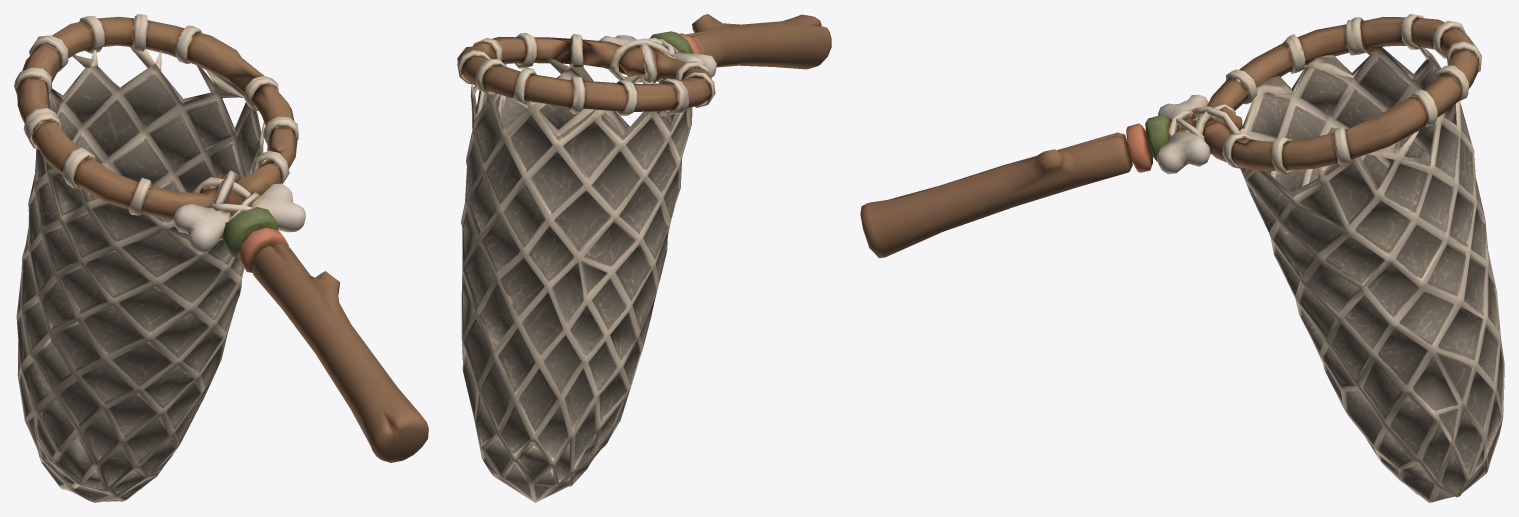
The model's file is web-bug-net.glb.
3 renders of one model, left to right at view 1: azimuth 30°, elevation 25°; view 2: azimuth 150°, elevation 25°; view 3: azimuth 270°, elevation 25°, orthographic. The views are drawn at different scales.
Visible parts, largest first — view 1: Web Bug Net; view 2: Web Bug Net; view 3: Web Bug Net.
Boxes of the visible parts, x1,y1,x2,y2 form: Web Bug Net: (14,14,428,502); Web Bug Net: (457,14,831,502); Web Bug Net: (860,14,1504,502).
Bounding box in the file's own units: 0.416 × 0.7793 × 0.998.
1 material, 1 textured.
